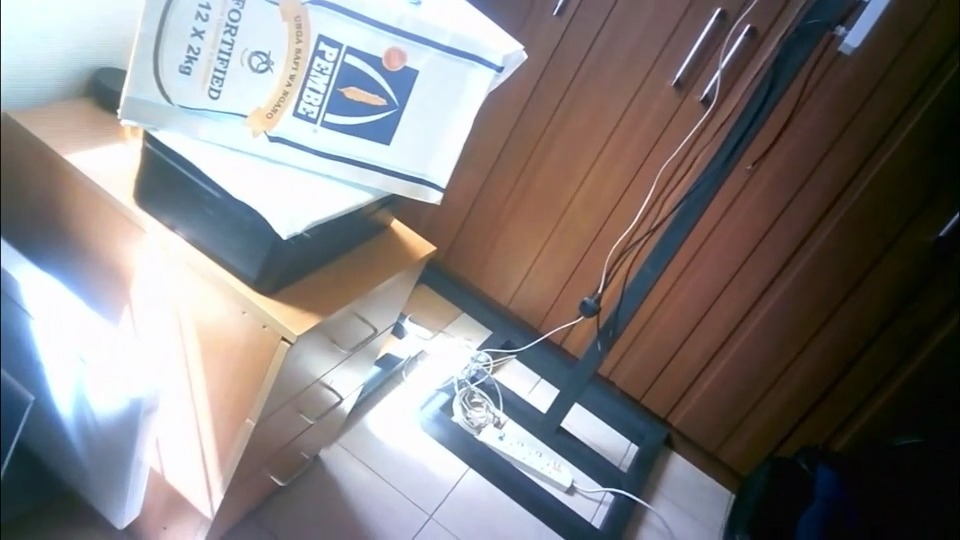wheat_flour_blue_label: (116, 2, 529, 203)
